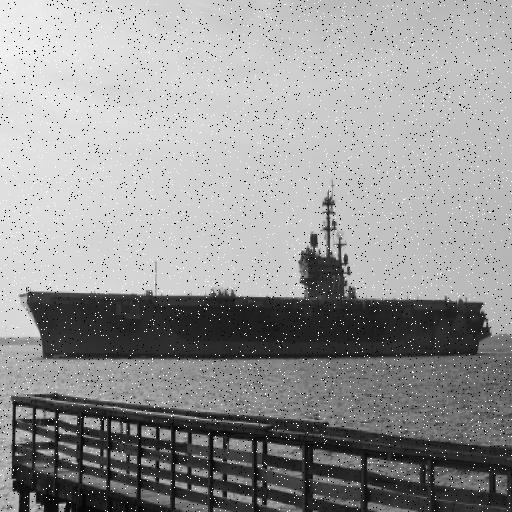Portanaves: (19, 176, 496, 364)
